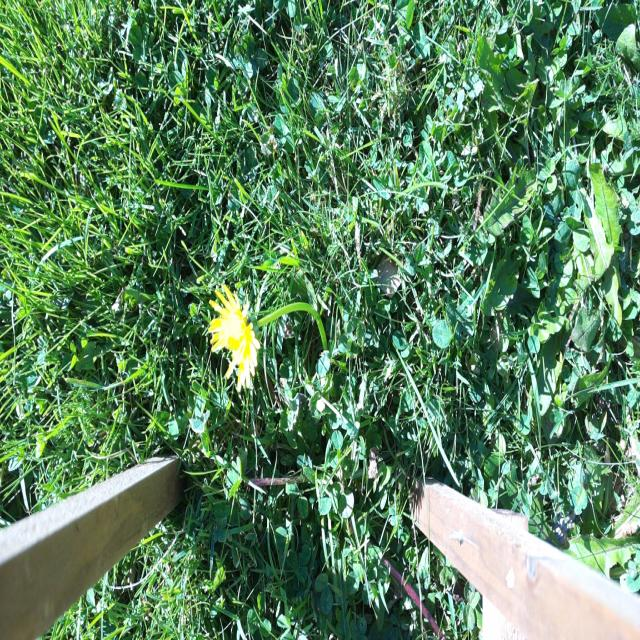base: (315, 324, 335, 362), (374, 542, 394, 577), (246, 470, 262, 498)
flower: (203, 288, 262, 384)
